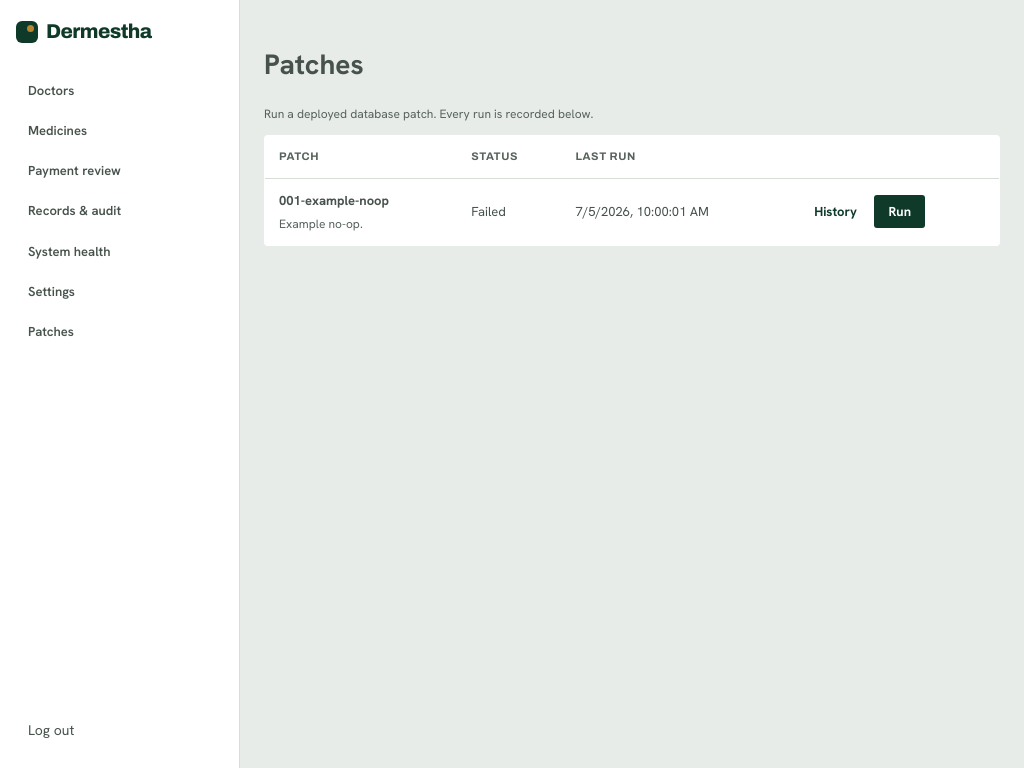
Test case: Patches view › History reveals prior executions
Check: the text "001-example-noop" is shown, box [279,192,389,208]
Click the button "History".
click(836, 212)  # box [800,195,871,228]
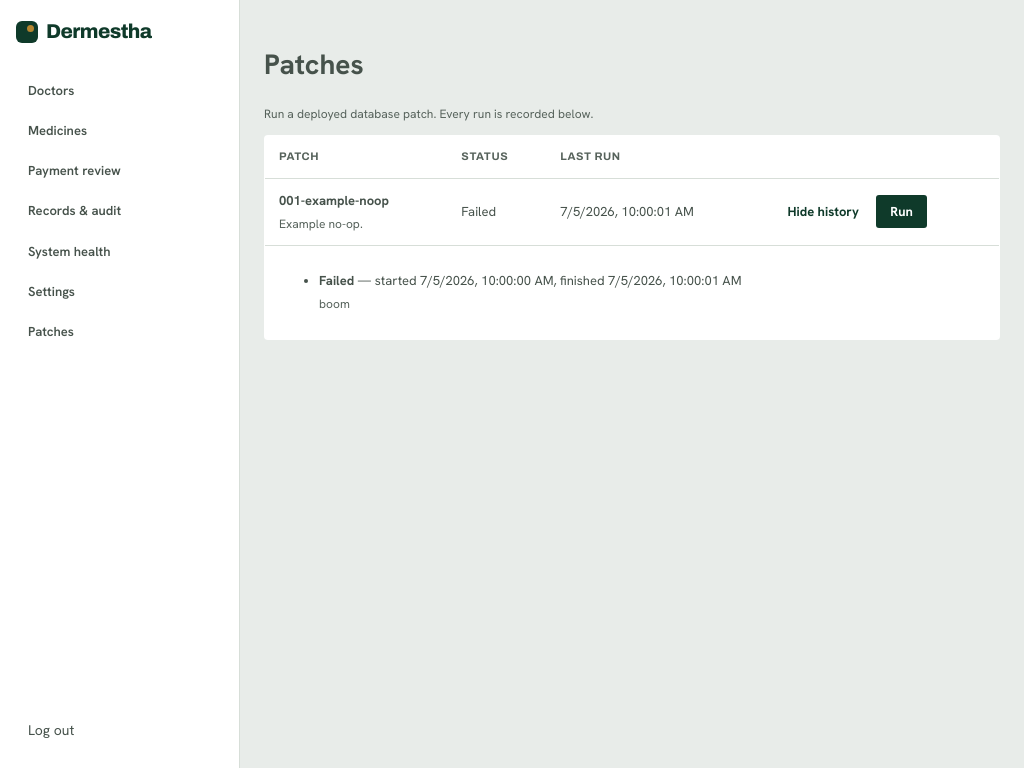
Check: the text "boom" is shown, box [319,296,350,312]
